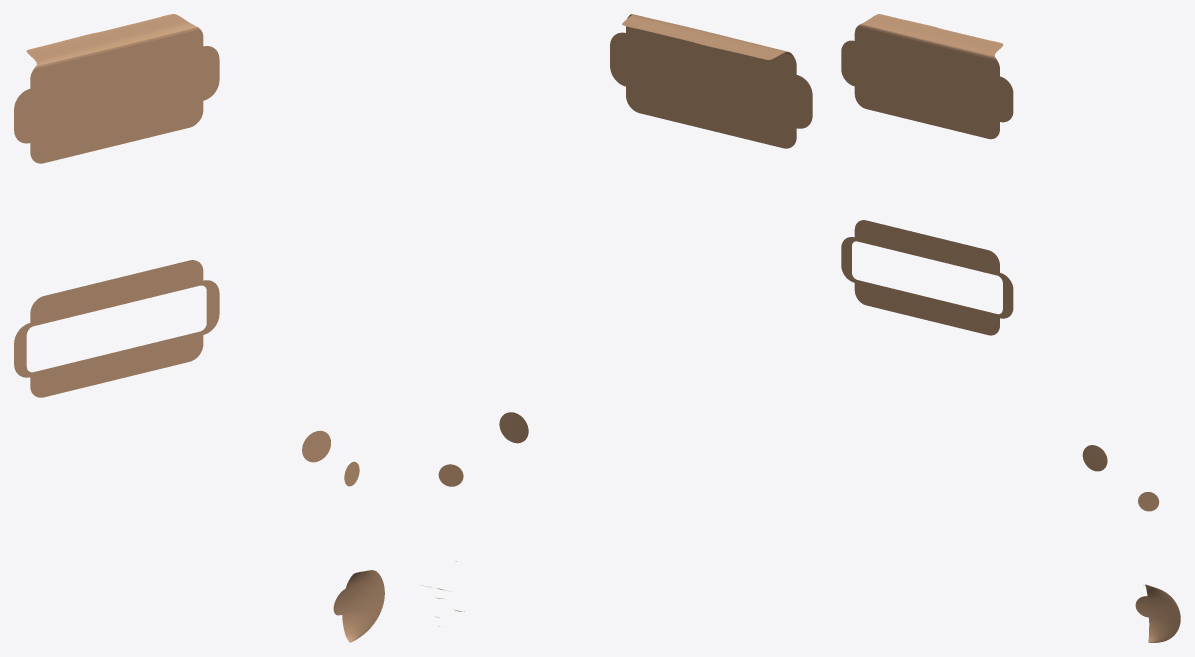
Rendered from matadaur_standard_pickup_fills.glb.
3 views of the same model, side by side, from view 1: azimuth 30°, elevation 25°; view 2: azimuth 150°, elevation 25°; view 3: azimuth 330°, elevation 25° (orthographic). The views are drawn at different scales.
Parts seen in each view (by area): view 1: neck_full, bridge_single, control_3, neck_single, switch; view 2: neck_full, neck_single, switch; view 3: neck_full, bridge_single, control_3, neck_single, switch.
Boxes of the visible parts, box(x1,y1,x2,y2) form: neck_full: box(14, 14, 219, 163); bridge_single: box(14, 260, 219, 397); control_3: box(333, 570, 384, 642); neck_single: box(14, 48, 219, 141); switch: box(302, 430, 330, 462); neck_full: box(610, 14, 812, 148); neck_single: box(610, 35, 812, 127); switch: box(499, 412, 528, 443); neck_full: box(841, 14, 1013, 139); bridge_single: box(841, 220, 1013, 335); control_3: box(1135, 584, 1180, 642); neck_single: box(841, 35, 1013, 120); switch: box(1082, 445, 1107, 471).
Size of the model in its own units: 0.168 by 0.2776 by 0.0149.
